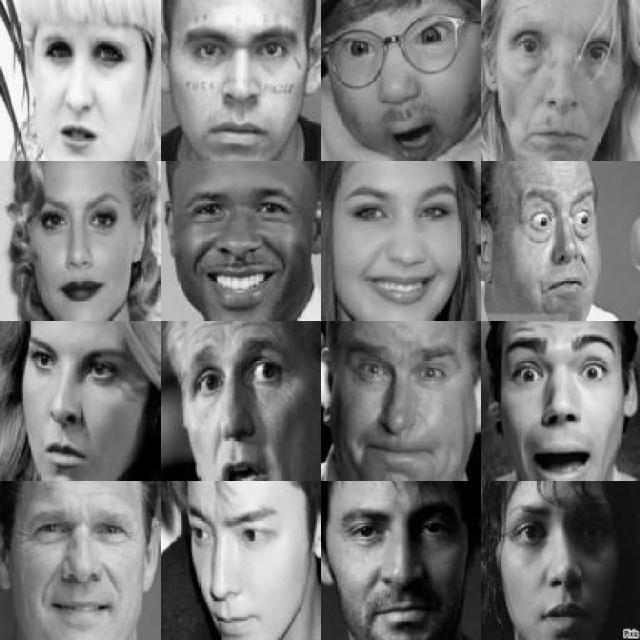angry: (177, 489, 308, 623), (29, 333, 137, 471), (336, 20, 460, 136)
fear: (510, 333, 621, 470), (363, 336, 472, 469), (506, 175, 606, 311)
happy: (197, 182, 313, 311), (348, 180, 457, 304)
neutral: (27, 170, 147, 313), (180, 12, 304, 146), (180, 336, 300, 467), (508, 504, 630, 630), (21, 503, 141, 629), (37, 24, 145, 161), (343, 502, 457, 628), (515, 19, 617, 145)
